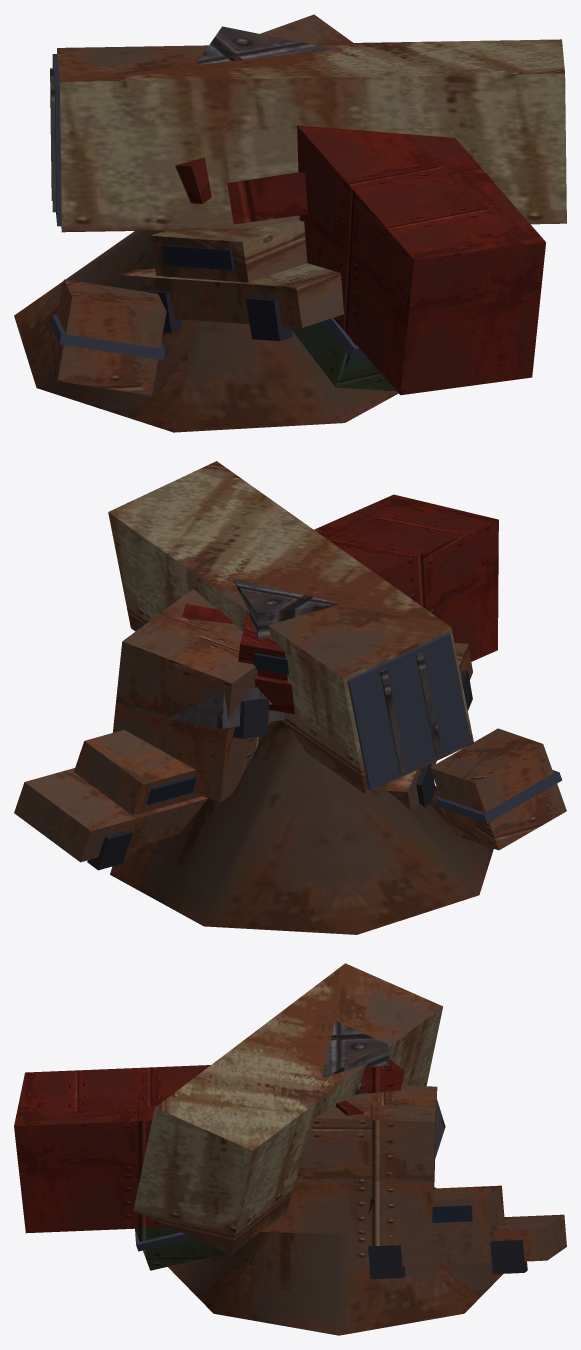
The model's file is scrap_pile_s.glb.
3 views of the same model, one above another, from view 1: azimuth 30°, elevation 25°; view 2: azimuth 150°, elevation 25°; view 3: azimuth 270°, elevation 25° (orthographic). The views are drawn at different scales.
Visible parts, largest first — view 1: scrap_pile_s; view 2: scrap_pile_s; view 3: scrap_pile_s.
Boxes of the visible parts, x1,y1,x2,y2 form: scrap_pile_s: (14,14,566,432); scrap_pile_s: (14,461,566,934); scrap_pile_s: (14,963,566,1335).
Size of the model in its own units: 5.93 by 3.34 by 7.11.
9 materials, 5 textured.
